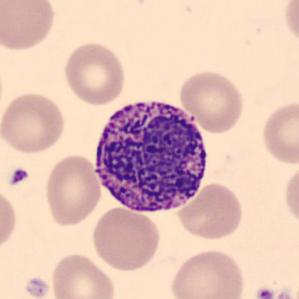Basophil: (89, 92, 215, 218)
Platelets: (24, 275, 50, 298), (7, 166, 31, 187), (253, 286, 276, 299), (276, 287, 292, 299)
RBC: (89, 205, 163, 273), (42, 153, 103, 228), (177, 68, 246, 134), (0, 90, 68, 156), (61, 40, 128, 106), (175, 180, 245, 242), (168, 246, 247, 299), (48, 251, 117, 299), (0, 0, 58, 53), (259, 99, 298, 166), (0, 184, 19, 256), (281, 163, 299, 230), (282, 0, 299, 48)
